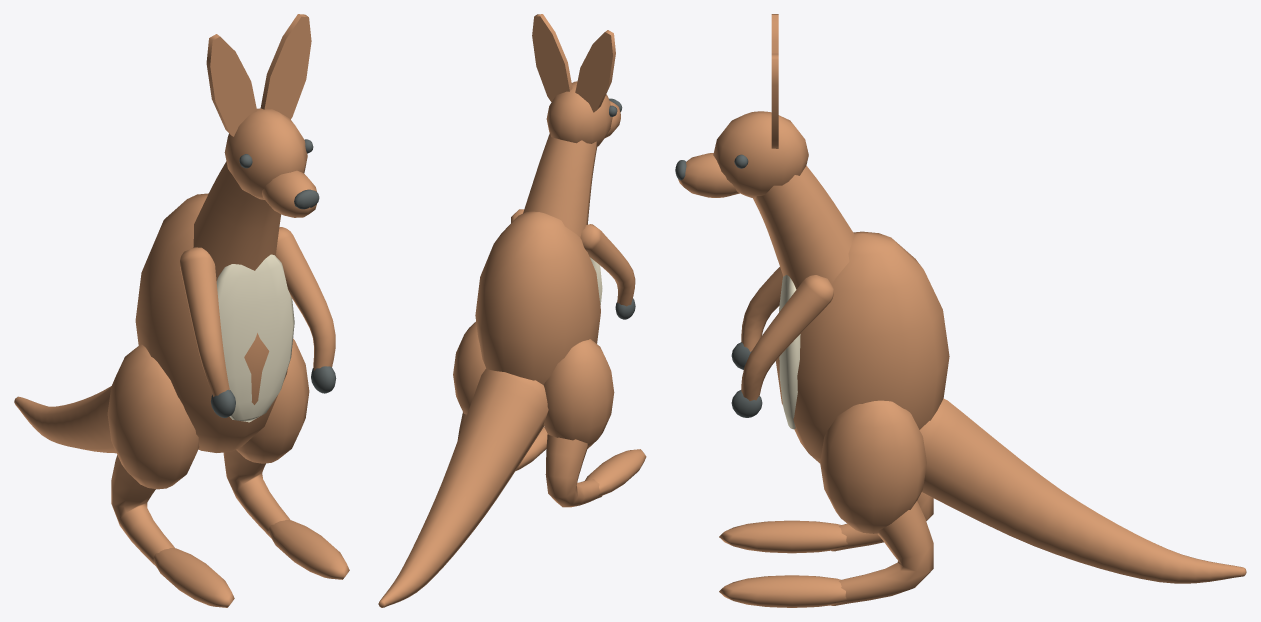
The model's file is outback-and-australian-wildlife-red-kangaroo-f235b6e2__5903.glb.
The picture shows the model from 3 angles, left to right: view 1: azimuth 30°, elevation 25°; view 2: azimuth 150°, elevation 25°; view 3: azimuth 270°, elevation 25°; orthographic projection. The views are drawn at different scales.
Parts seen in each view (by area): view 1: red-kangaroo; view 2: red-kangaroo; view 3: red-kangaroo.
Boxes of the visible parts, x1,y1,x2,y2 form: red-kangaroo: (14,14,349,607); red-kangaroo: (378,14,646,607); red-kangaroo: (675,14,1246,607).
Bounding box in the file's own units: 0.7401 × 2.15 × 2.03.
